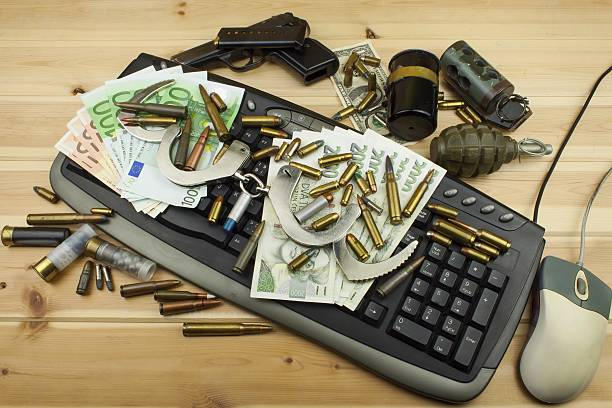e1: (440, 36, 533, 129), (431, 123, 556, 176)
